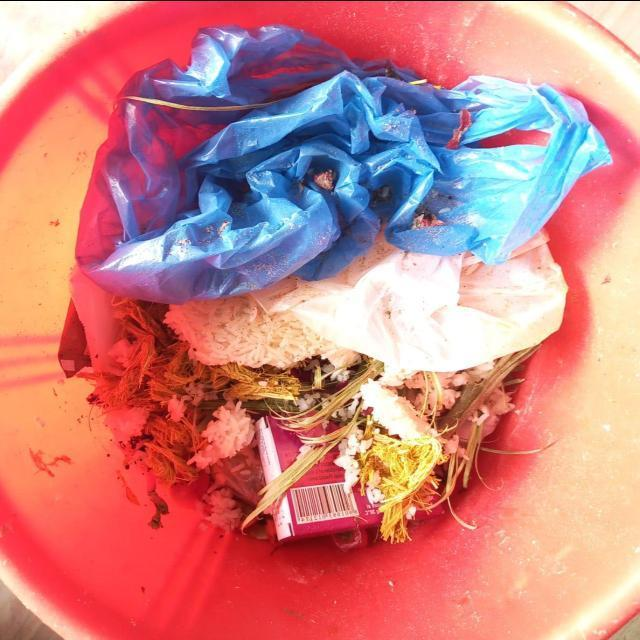Garbage: (58, 24, 610, 541)
Plastic_Bag: (77, 24, 609, 302), (253, 232, 567, 370)
